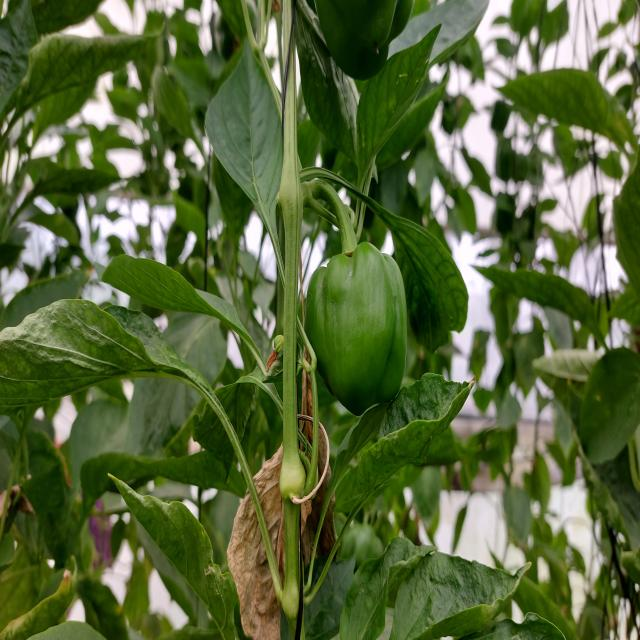Green--Not-ready-to-harvest: (304, 241, 407, 414)
